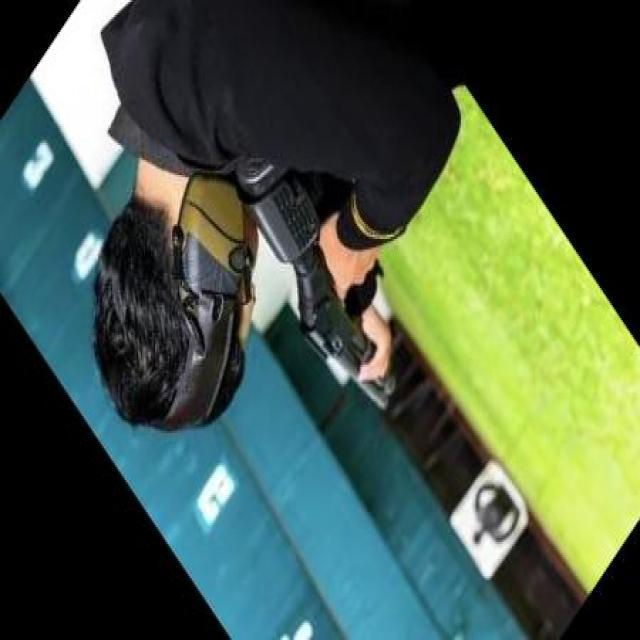weapon: (235, 156, 396, 412)
